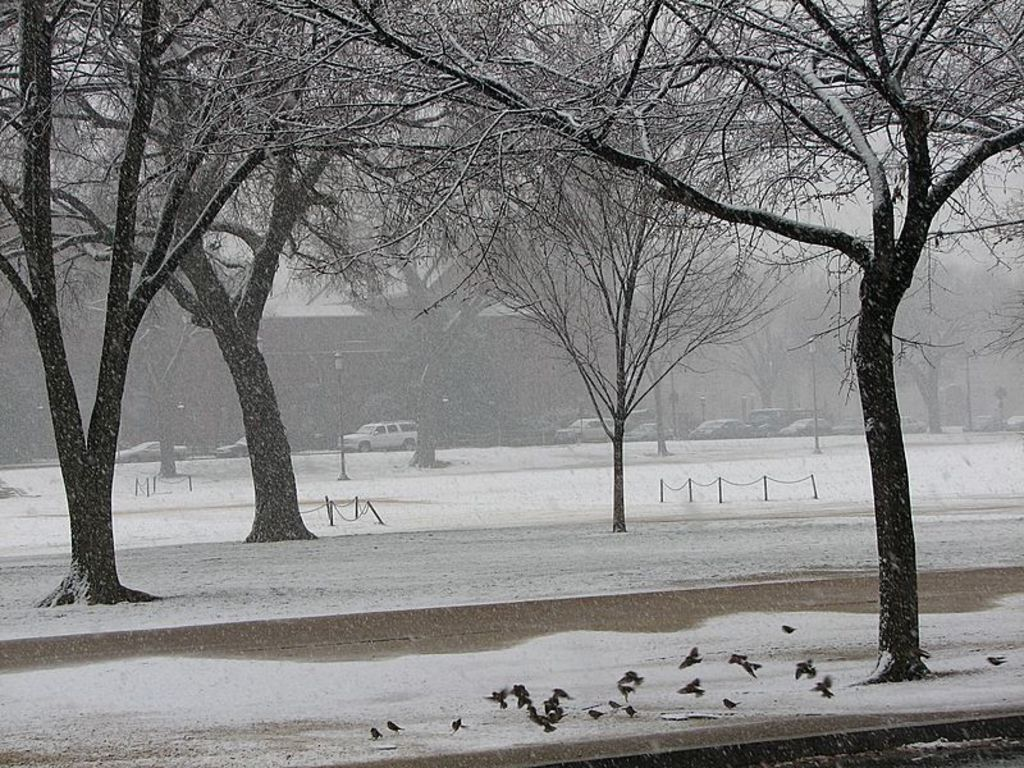Tree: (0, 0, 1023, 687)
